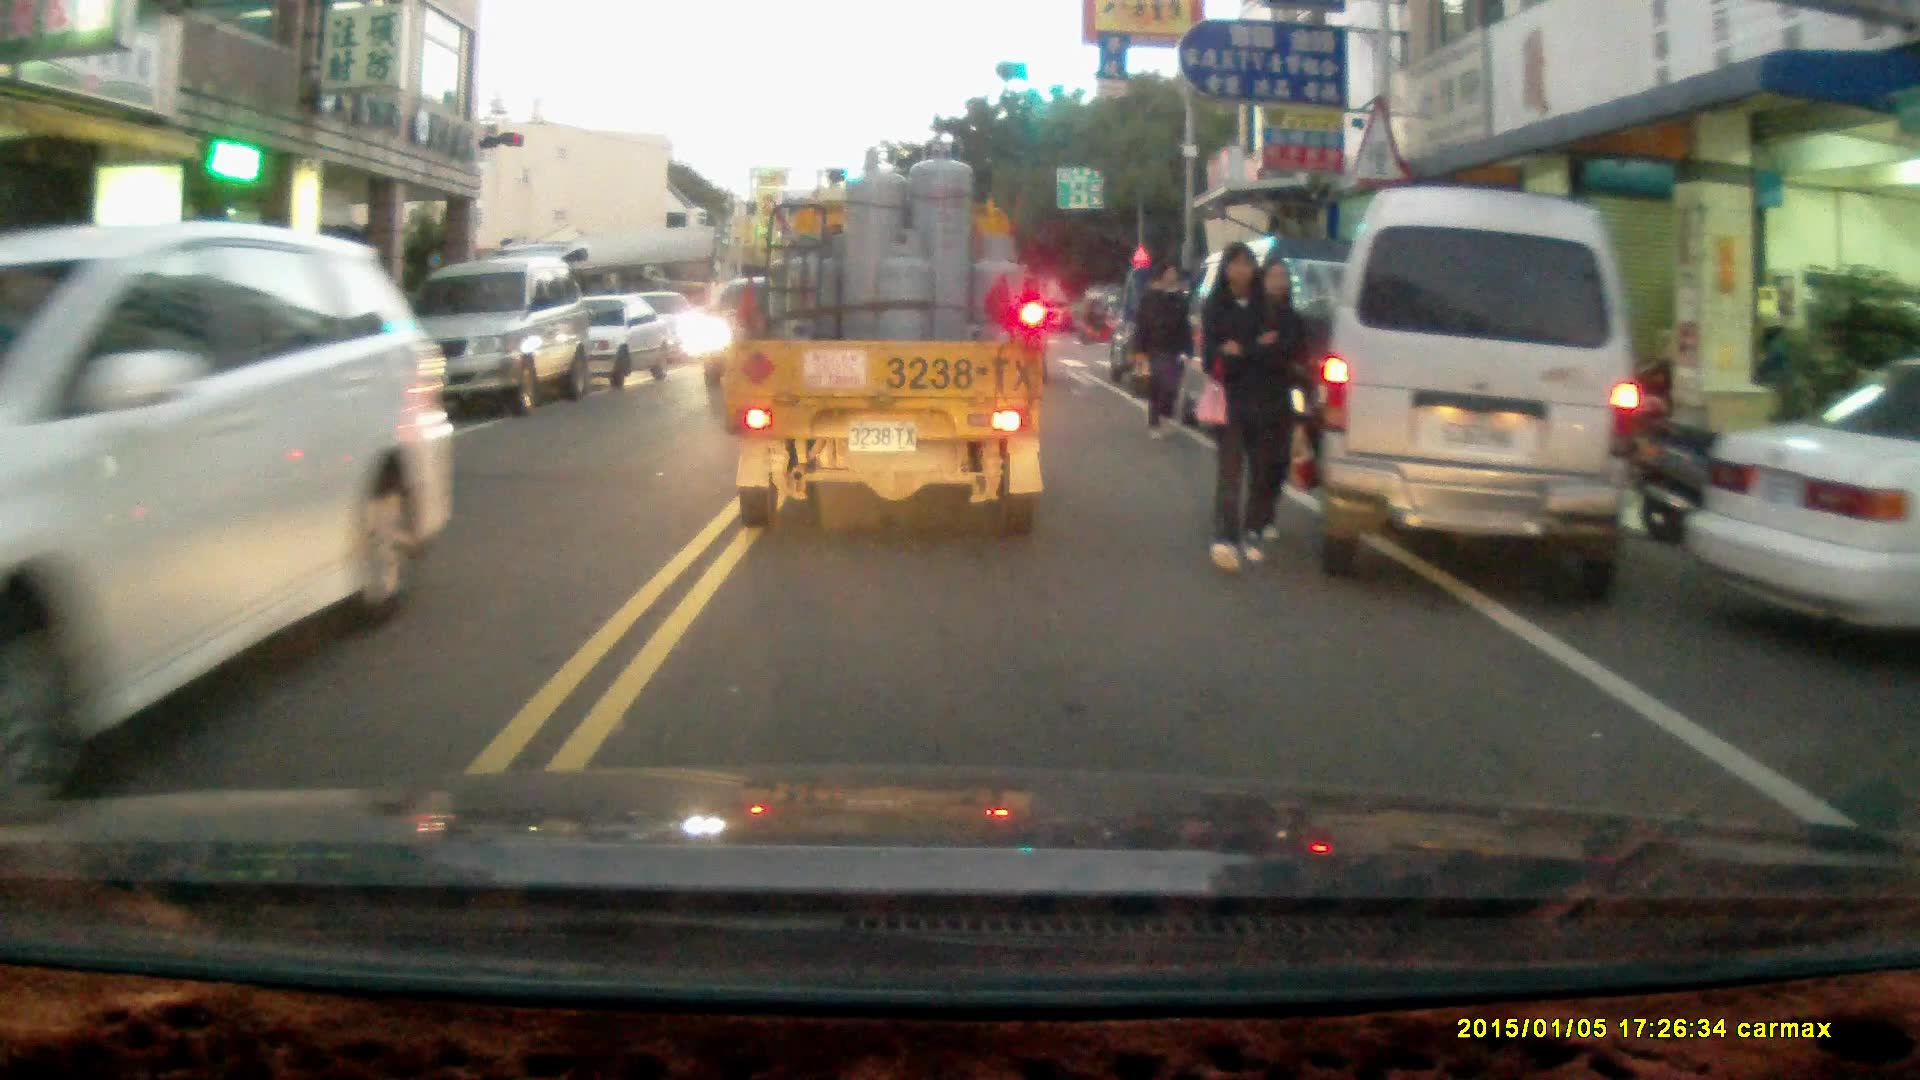pedestrian: (1196, 236, 1285, 571), (1132, 261, 1192, 443)
rider: (1078, 291, 1119, 343)
vehicle: (1, 214, 461, 764), (1310, 186, 1643, 603), (717, 136, 1053, 534), (1688, 372, 1920, 638), (373, 247, 594, 423), (525, 290, 677, 390)
